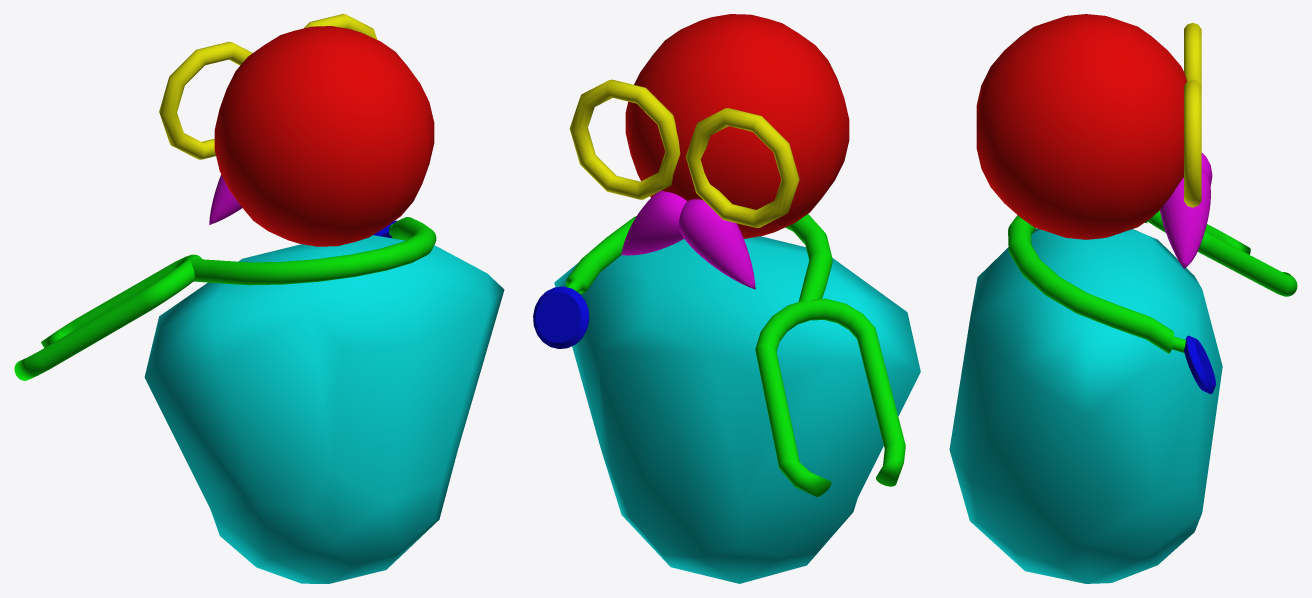
Rendered from Docteur.fbx.
3 views of the same model, side by side, from view 1: azimuth 30°, elevation 25°; view 2: azimuth 150°, elevation 25°; view 3: azimuth 270°, elevation 25° (orthographic). The views are drawn at different scales.
Visible parts, largest first — view 1: pTorus6; view 2: pTorus6; view 3: pTorus6.
Boxes of the visible parts, x1,y1,x2,y2 form: pTorus6: [14, 14, 504, 583]; pTorus6: [533, 14, 920, 583]; pTorus6: [949, 14, 1297, 583].
Bounding box in the file's own units: 10.68 × 13.3 × 7.64.
